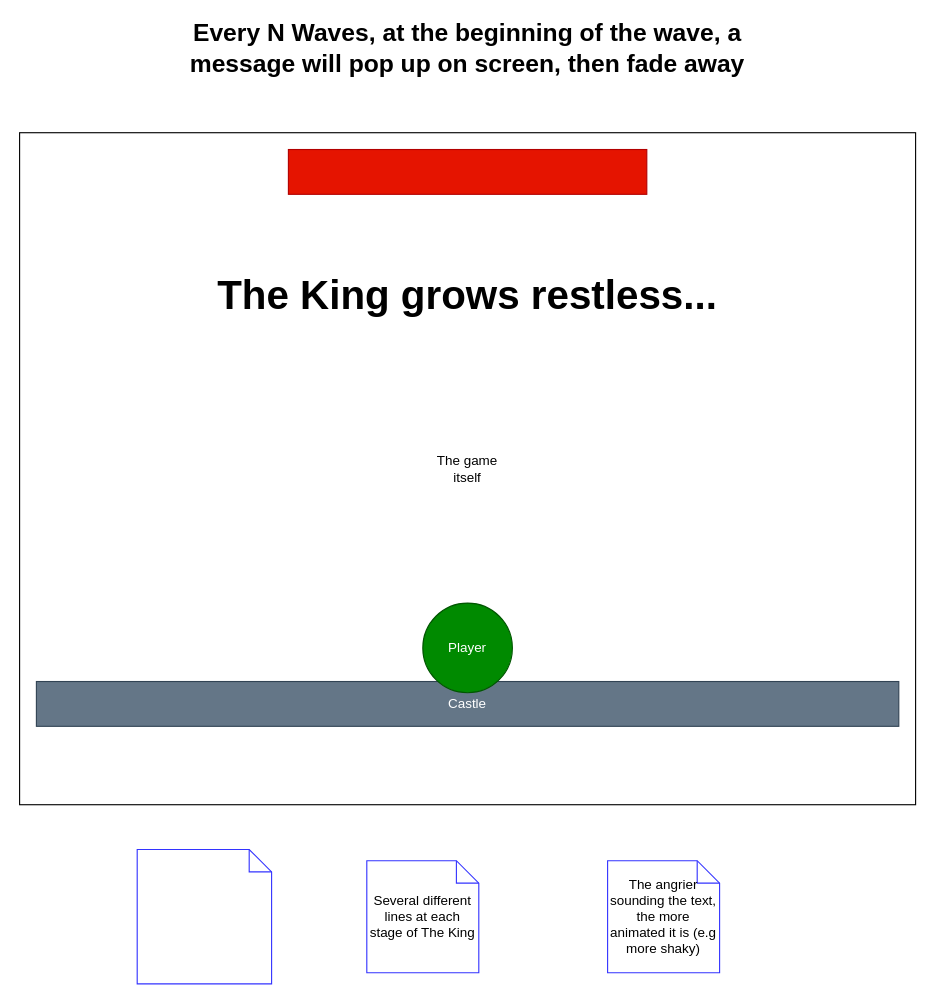
The diagram is 935 pixels wide and 1004 high, and some of its shapes have lost their labels. The centre of each missing label's shape, as x and y in pixels:
"Health Bar" goes at pixel 467 171.
"Several stages for how annoyed and angry The King gets, the further you go" goes at pixel 204 916.
